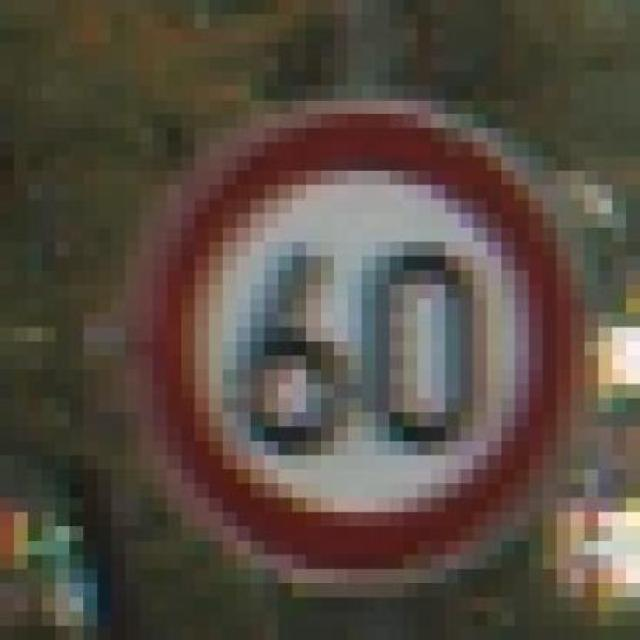forb_speed_over_60: (153, 103, 558, 574)
